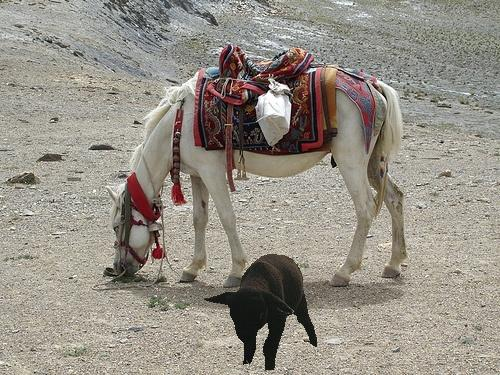tampered: (205, 255, 317, 370)
